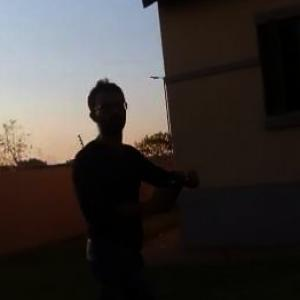follow: (69, 66, 205, 299)
